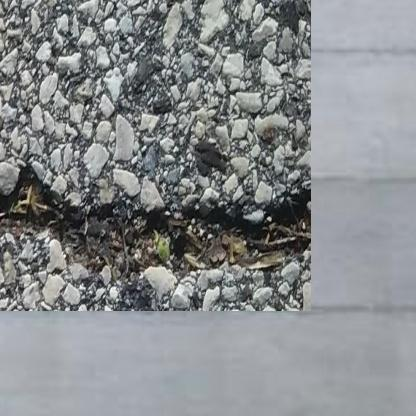Cracks: (0, 153, 287, 259)
